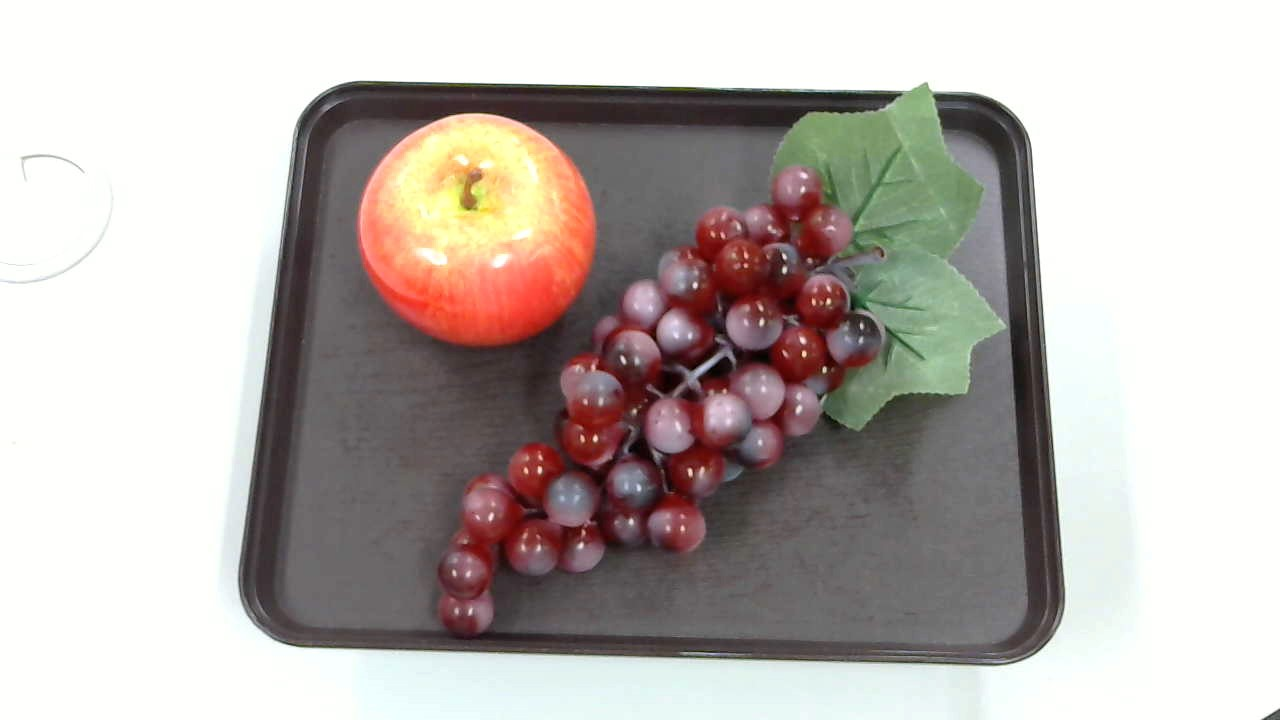grape: (434, 76, 1005, 627)
red apple: (361, 112, 596, 354)
